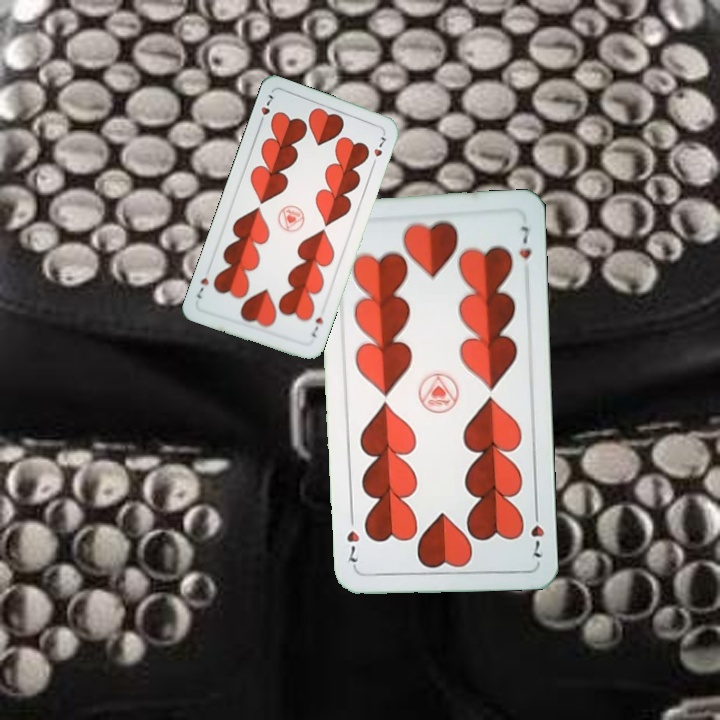H7: (527, 504, 547, 560), (255, 91, 277, 128), (307, 313, 326, 340)
